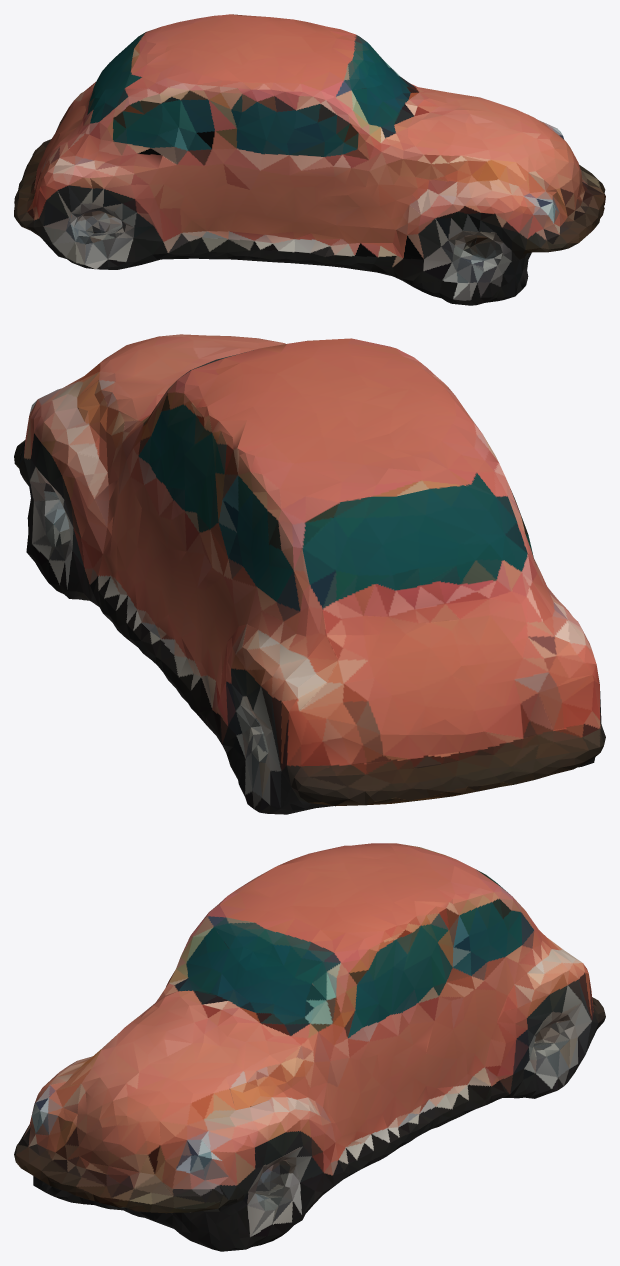
3 views of the same model, one above another, from view 1: azimuth 30°, elevation 25°; view 2: azimuth 150°, elevation 25°; view 3: azimuth 270°, elevation 25° (orthographic). The views are drawn at different scales.
Parts seen in each view (by area): view 1: tmplj4peh38; view 2: tmplj4peh38; view 3: tmplj4peh38.
Part boxes in pixels (box(x1,y1,x2,y2)): tmplj4peh38: box(14, 14, 605, 305); tmplj4peh38: box(14, 334, 605, 814); tmplj4peh38: box(14, 843, 605, 1251).
Bounding box in the file's own units: 3.12 × 1.28 × 2.85.
1 material, 1 textured.
